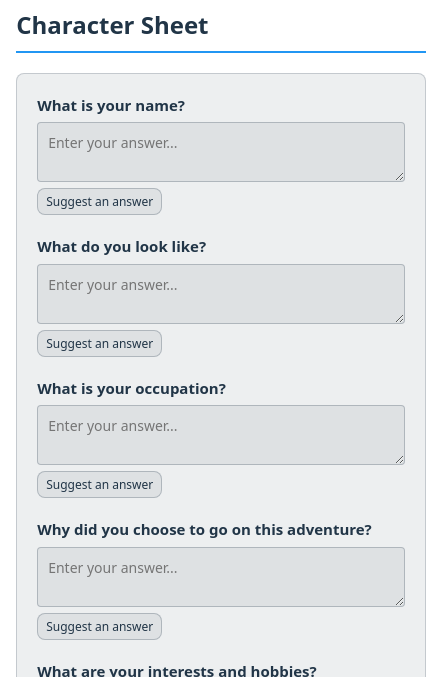
Test: MyCharacterSheet AI answer suggestions › drafts a suggestion into a preview and accepting it fills the textarea without auto-sending on generation
The width and height of the screenshot is (443, 677).
Click the button "Suggest an answer" below "What is your name?": click(100, 202) [37,188,162,215]
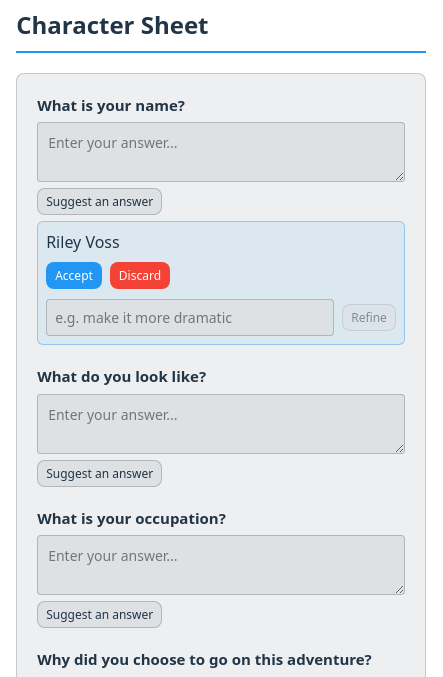
Expected: the text box with placeholder "Enter your answer..." below "What is your name?" is empty, [37,122,405,182]
Expected: the text "Riley Voss" is shown, [46,231,120,253]
Click the button "Accept": click(74, 276) [46,262,102,289]
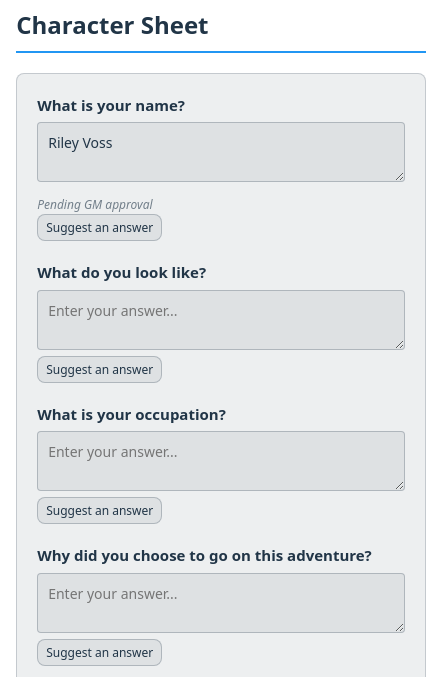
Expected: the text box with placeholder "Enter your answer..." holds "Riley Voss", [37,122,405,182]
Expected: the text "Pending GM approval" is shown, [37,196,153,213]
Expected: the button "Accept" is gone
